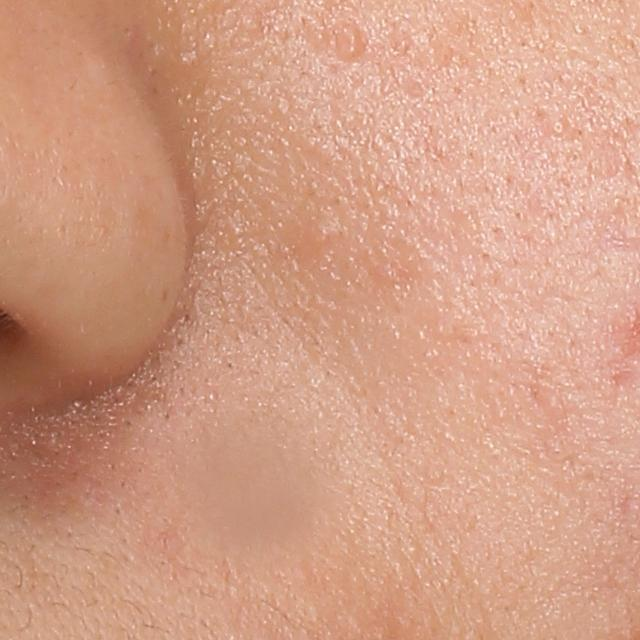comedo: (549, 117, 571, 141)
